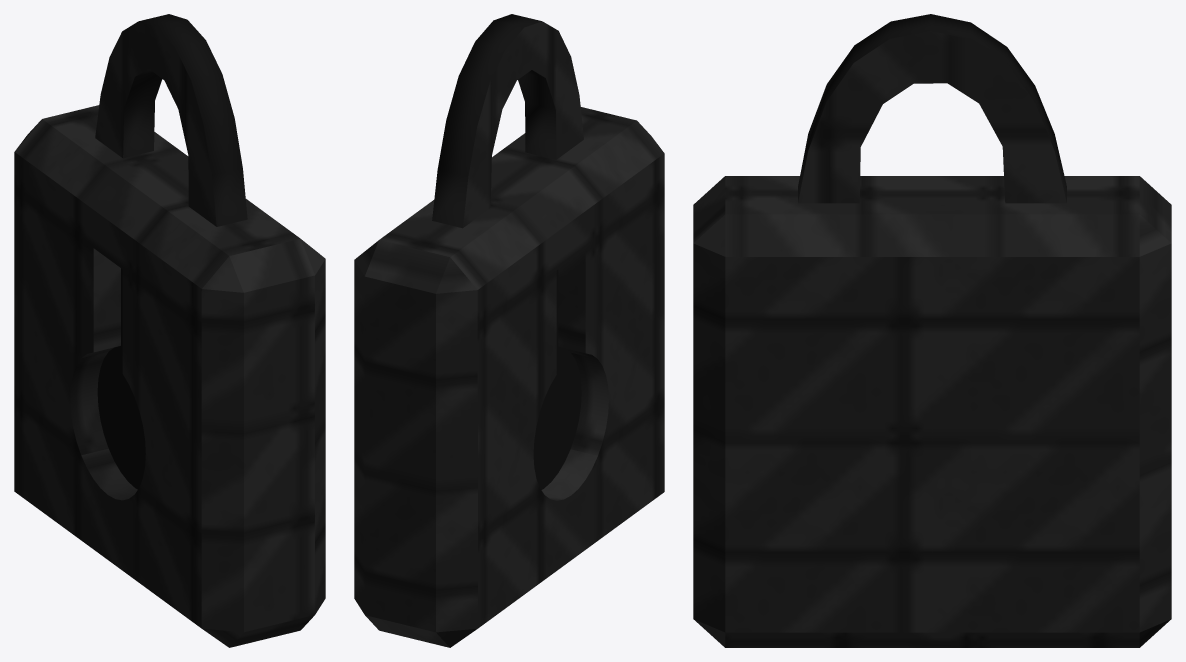
File: Lock.fbx
The picture shows the model from 3 angles, left to right: view 1: azimuth 30°, elevation 25°; view 2: azimuth 150°, elevation 25°; view 3: azimuth 270°, elevation 25°; orthographic projection. The views are drawn at different scales.
Visible parts, largest first — view 1: Cube; view 2: Cube; view 3: Cube.
Part boxes in pixels (left/top/right/bottom): Cube: left=14, top=14, right=325, bottom=647; Cube: left=354, top=14, right=664, bottom=647; Cube: left=693, top=14, right=1171, bottom=647.
Bounding box in the file's own units: 66.28 × 280 × 200.
